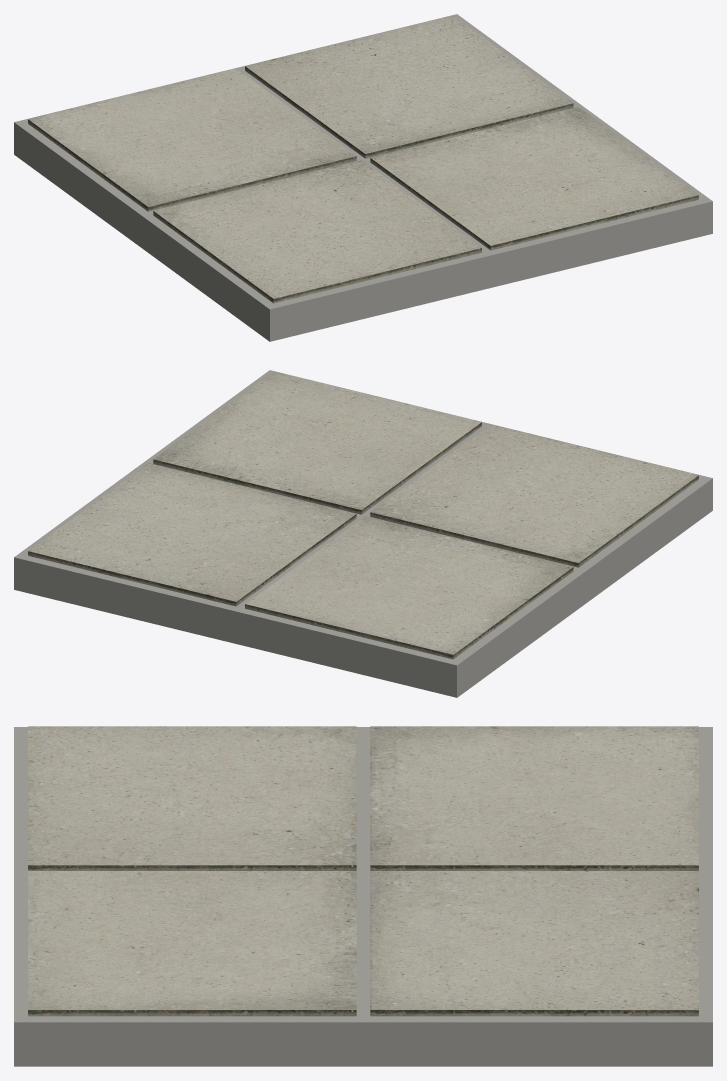
The model's file is env_street_slab_b.glb.
3 views of the same model, one above another, from view 1: azimuth 30°, elevation 25°; view 2: azimuth 150°, elevation 25°; view 3: azimuth 270°, elevation 25° (orthographic). The views are drawn at different scales.
Visible parts, largest first — view 1: env_street_slab_b; view 2: env_street_slab_b; view 3: env_street_slab_b.
Part boxes in pixels (x1=…): env_street_slab_b: x1=14, y1=14, x2=712, y2=341; env_street_slab_b: x1=14, y1=370, x2=712, y2=697; env_street_slab_b: x1=14, y1=726, x2=712, y2=1066.
Size of the model in its own units: 2 by 0.16 by 2.
Materials: 2 (1 with a texture image).
